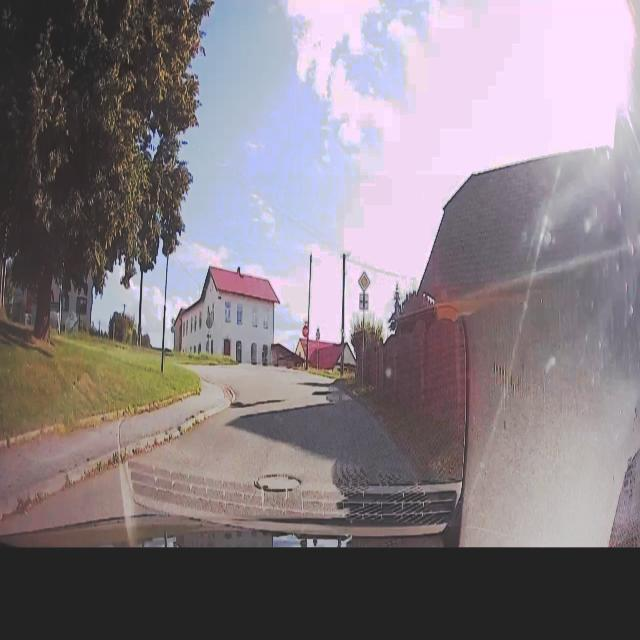Priority road: (356, 268, 371, 292)
